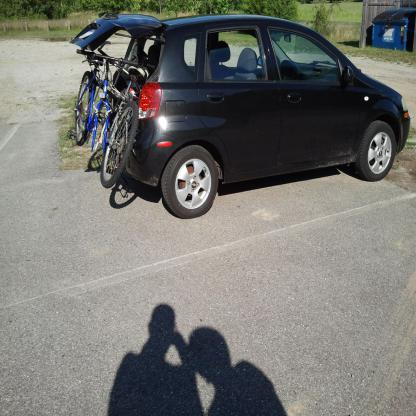Car: (69, 11, 410, 219)
